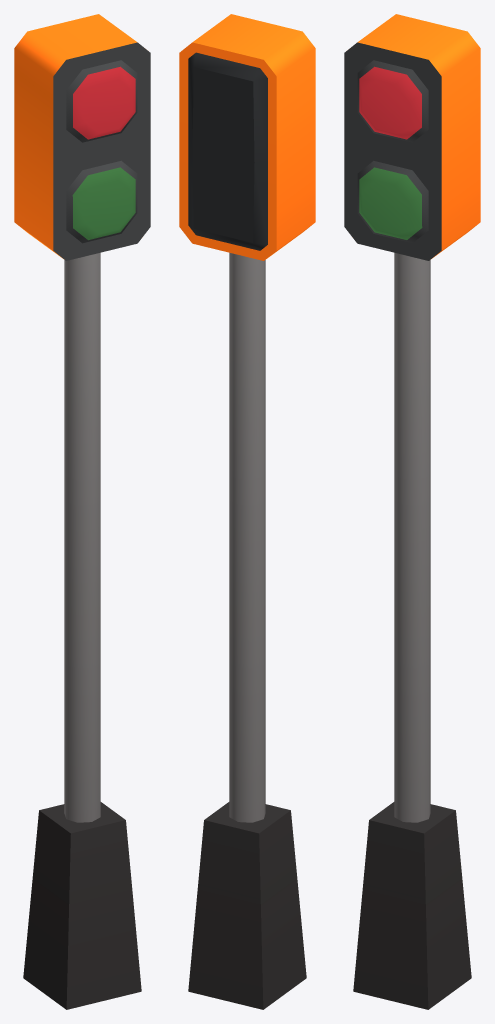
File: city2-traffic-light-01.glb
The picture shows the model from 3 angles, left to right: view 1: azimuth 30°, elevation 25°; view 2: azimuth 150°, elevation 25°; view 3: azimuth 330°, elevation 25°; orthographic projection.
Parts seen in each view (by area): view 1: Traffic_Light_01; view 2: Traffic_Light_01; view 3: Traffic_Light_01.
Boxes of the visible parts, left/top/right/bottom form: Traffic_Light_01: left=14, top=14, right=150, bottom=1009; Traffic_Light_01: left=179, top=14, right=315, bottom=1009; Traffic_Light_01: left=344, top=14, right=480, bottom=1009.
Size of the model in its own units: 0.3789 by 3.53 by 0.341.
Materials: 2 (2 with a texture image).
